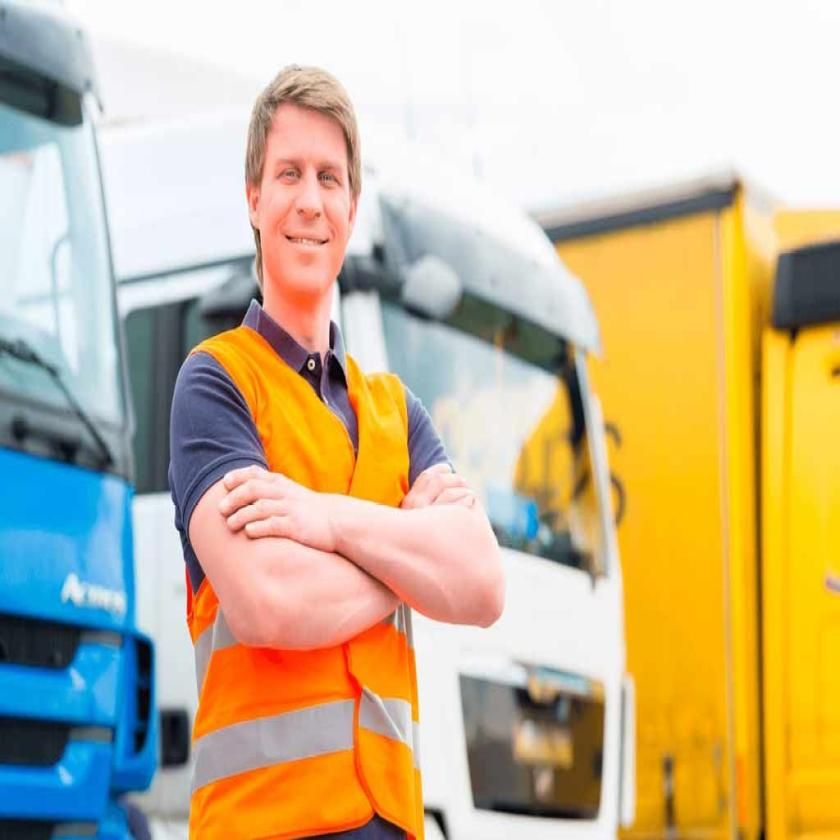Sin_casco: (242, 48, 362, 333)
